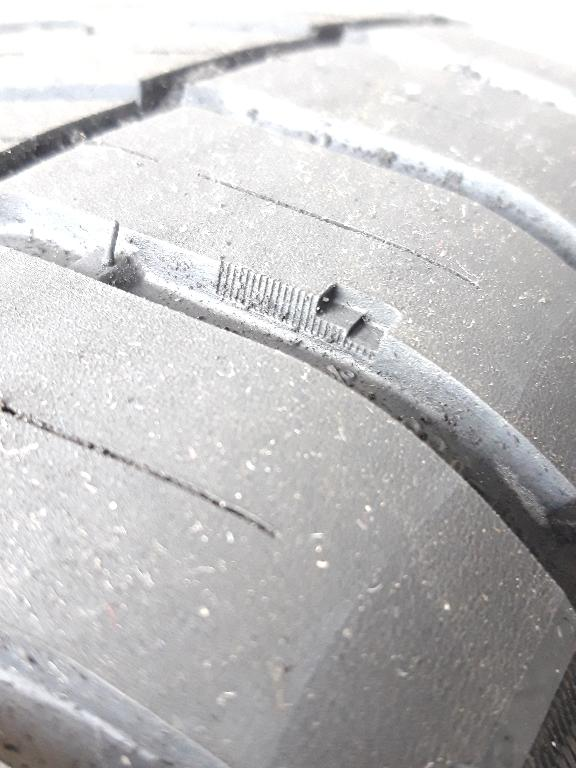temoin:50: (287, 272, 409, 367)
